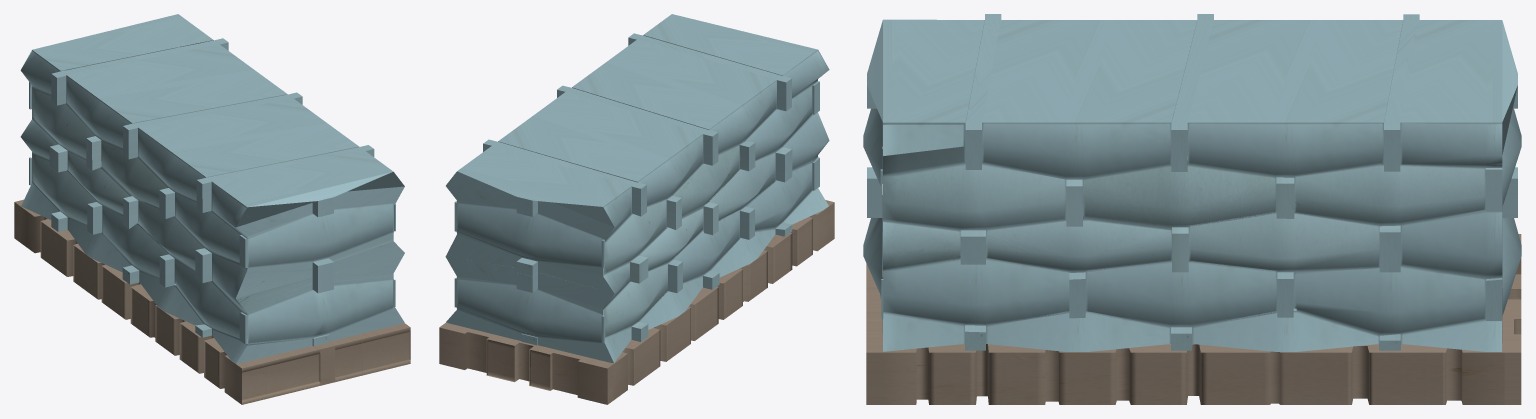
File: MOD_Lloyd_LeNuage.fbx
The picture shows the model from 3 angles, left to right: view 1: azimuth 30°, elevation 25°; view 2: azimuth 150°, elevation 25°; view 3: azimuth 270°, elevation 25°; orthographic projection. The views are drawn at different scales.
Visible parts, largest first — view 1: Bulle39, pCube13; view 2: Bulle39, pCube13; view 3: Bulle39, pCube13.
Boxes of the visible parts, left/top/right/bottom form: Bulle39: left=20, top=14, right=404, bottom=363; pCube13: left=14, top=199, right=410, bottom=404; Bulle39: left=445, top=14, right=829, bottom=363; pCube13: left=439, top=200, right=834, bottom=404; Bulle39: left=863, top=14, right=1521, bottom=351; pCube13: left=866, top=234, right=1521, bottom=404.
Bounding box in the file's own units: 67.91 × 73.11 × 159.
